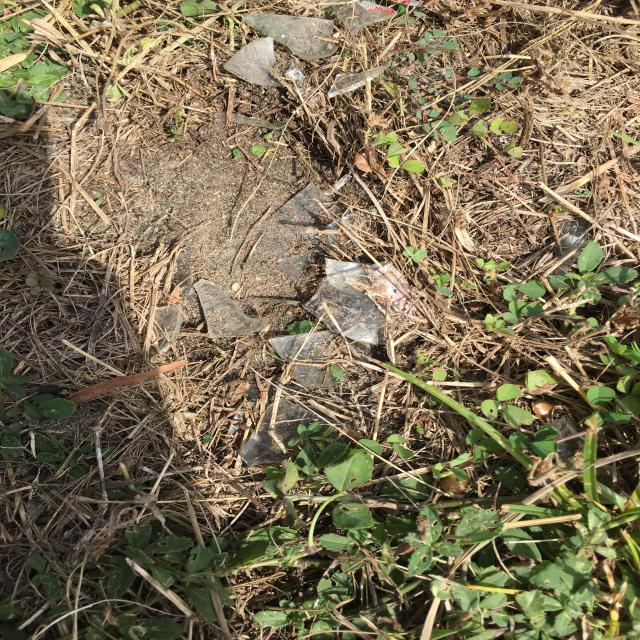litter: (253, 173, 431, 388), (222, 14, 339, 86), (239, 398, 357, 467), (194, 279, 269, 338), (151, 252, 193, 355), (331, 0, 398, 36), (328, 66, 389, 98), (287, 67, 306, 81)
